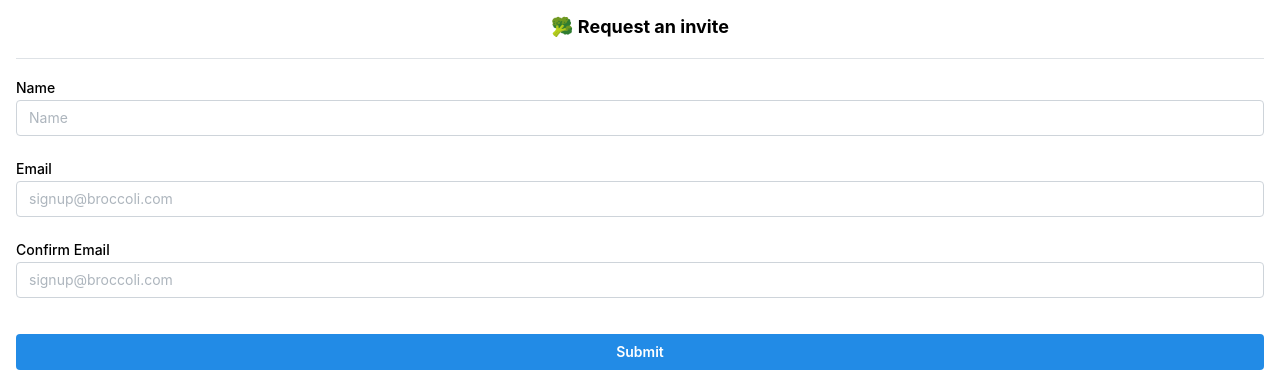
Test: InviteForm › Should display error if name is less than 3 characters
This screenshot has width=1280, height=387.
Type "ab" into the field labelled "Name". click: (640, 118)
box: left=16, top=100, right=1264, bottom=136
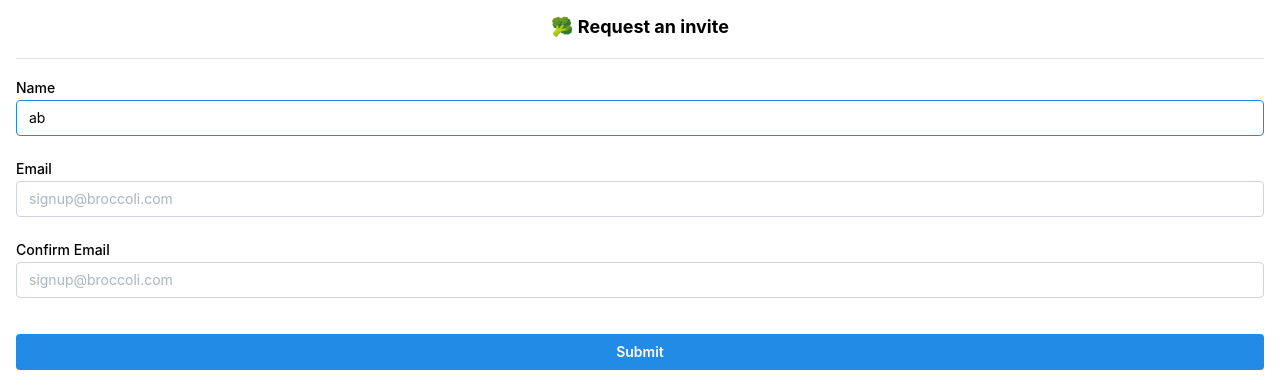
Press Tab
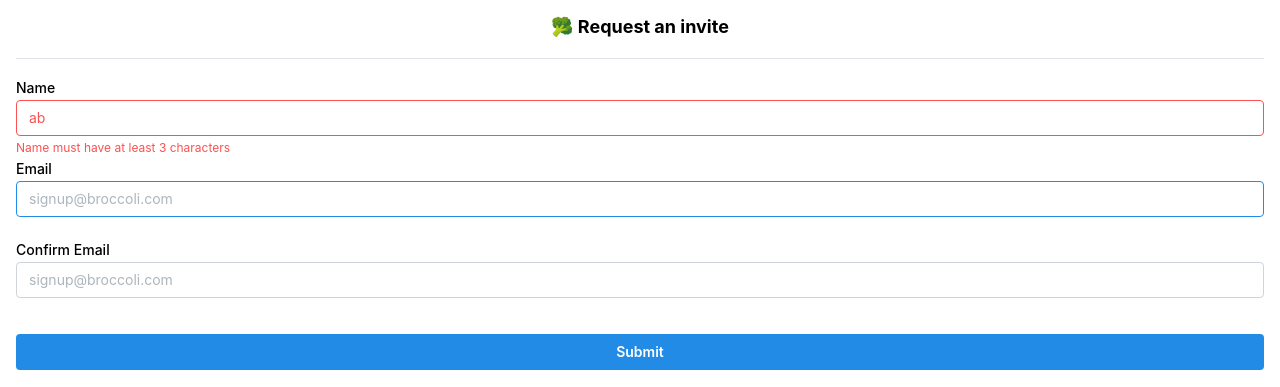
Expected: the text "Name must have at least 3 characters" is shown, left=16, top=140, right=230, bottom=155
